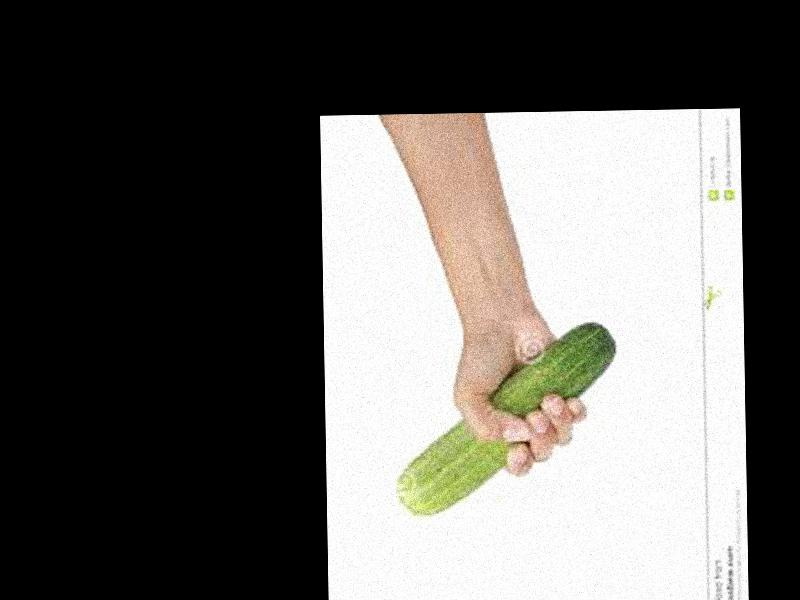Cucumber: (395, 317, 619, 515)
